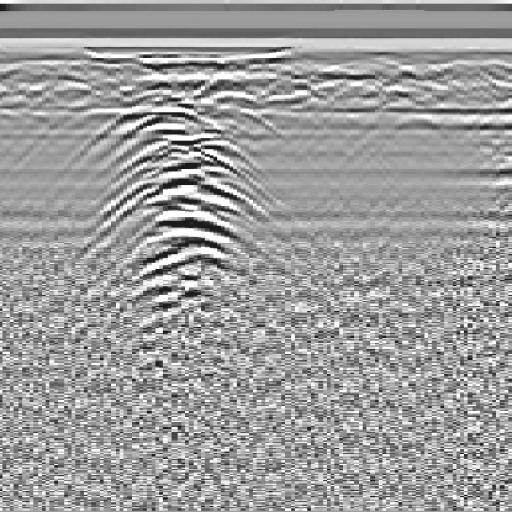metalic: (67, 69, 299, 363)
